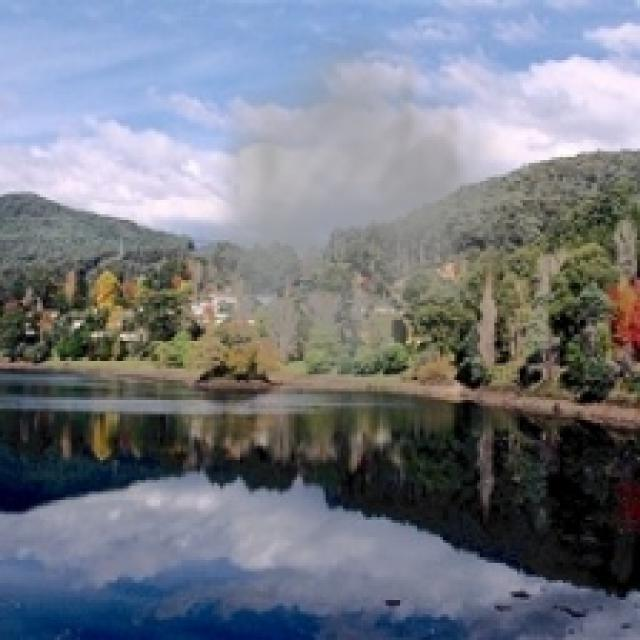smoke: (194, 11, 546, 412)
